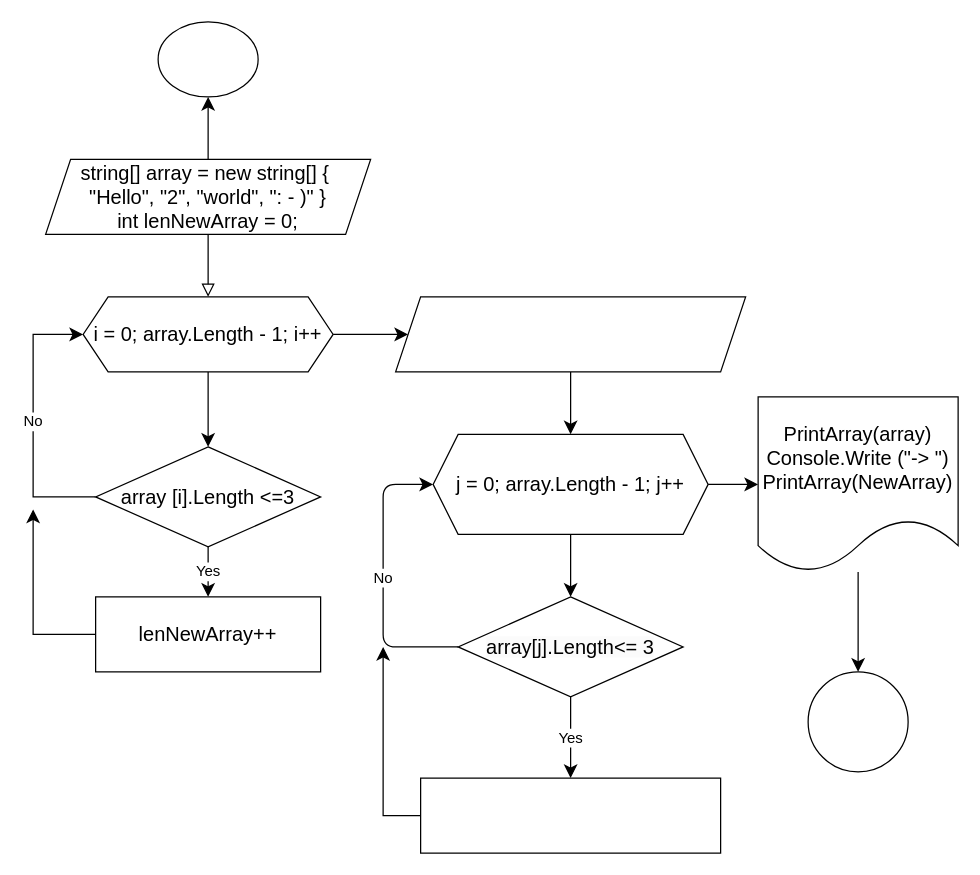
Image size: 980x875. Some labels were removed from this diagram. Here are the shapes that lost their labels. From the top down, the centre of each, then its label:
(207,59): Start
(570,334): string[] newArray = new string[lenNewArray] int ix = 0;
(857,721): End
(570,815): newArray[ix] = array[j] ix++
